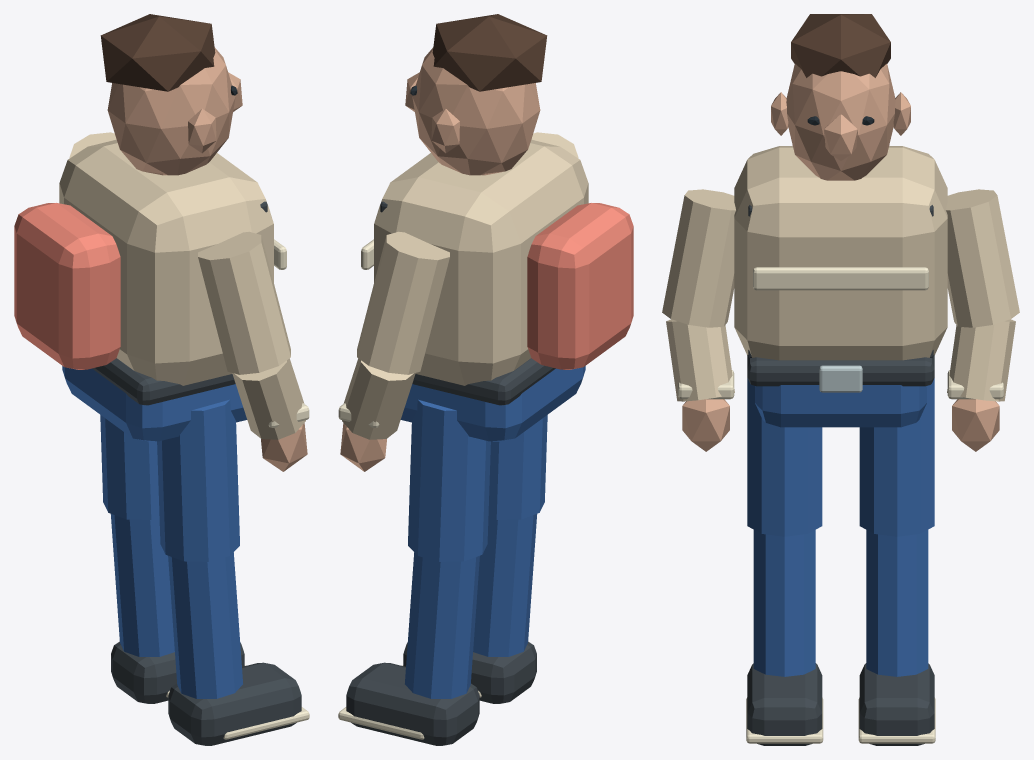
The model's file is Pedestrian.fbx.
3 renders of one model, left to right at view 1: azimuth 30°, elevation 25°; view 2: azimuth 150°, elevation 25°; view 3: azimuth 270°, elevation 25°, orthographic.
Visible parts, largest first — view 1: Pedestrian; view 2: Pedestrian; view 3: Pedestrian.
Part boxes in pixels (x1=…): Pedestrian: x1=14, y1=14, x2=309, y2=745; Pedestrian: x1=338, y1=14, x2=633, y2=745; Pedestrian: x1=662, y1=14, x2=1019, y2=745.
Bounding box in the file's own units: 68 × 203 × 95.55.
